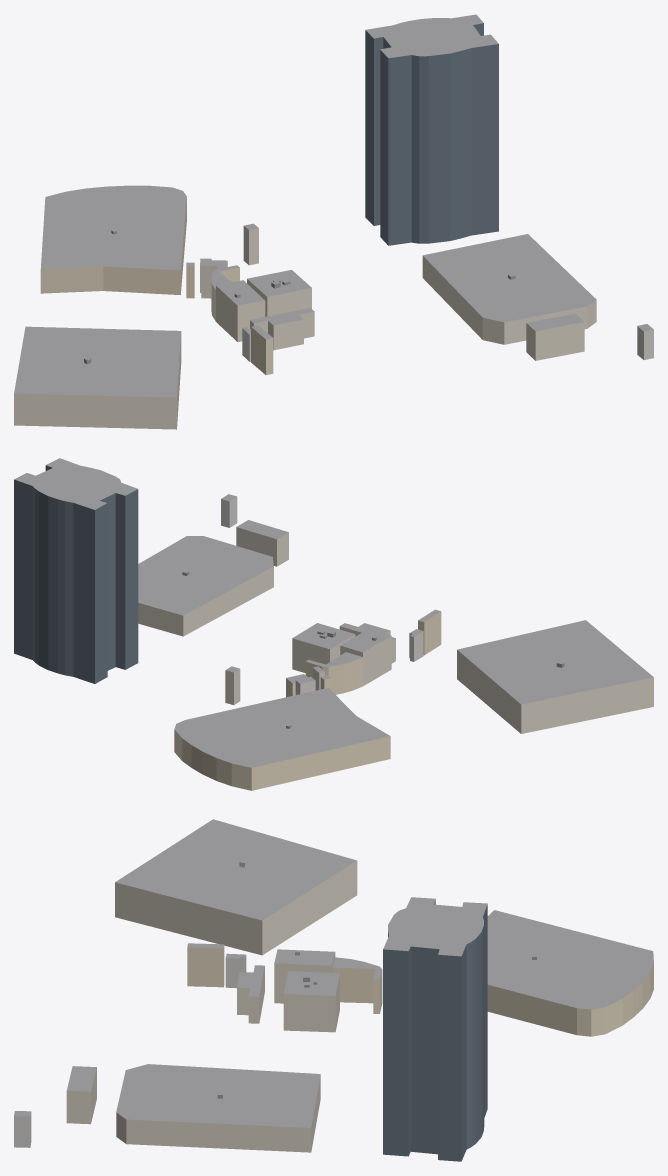
File: building_2_4.glb
The picture shows the model from 3 angles, top to bottom: view 1: azimuth 30°, elevation 25°; view 2: azimuth 150°, elevation 25°; view 3: azimuth 270°, elevation 25°; orthographic projection. The views are drawn at different scales.
Parts seen in each view (by area): view 1: roof, glass_dark, concrete_warm, sandstone, concrete_light; view 2: roof, glass_dark, concrete_warm, sandstone, concrete_light; view 3: roof, glass_dark, concrete_warm, sandstone, concrete_light.
Boxes of the visible parts, x1,y1,x2,y2 form: roof: (14, 14, 653, 397); glass_dark: (365, 23, 498, 245); concrete_warm: (14, 226, 596, 429); sandstone: (40, 198, 273, 375); concrete_light: (200, 260, 653, 361); roof: (14, 458, 653, 767); glass_dark: (14, 465, 138, 683); concrete_warm: (138, 527, 653, 733); sandstone: (174, 612, 441, 790); concrete_light: (221, 497, 423, 694); roof: (14, 819, 653, 1127); glass_dark: (383, 899, 487, 1161); concrete_warm: (66, 861, 357, 1152); sandstone: (187, 946, 653, 1036); concrete_light: (14, 956, 246, 1147).
Bounding box in the file's own units: 257 × 80 × 226.
